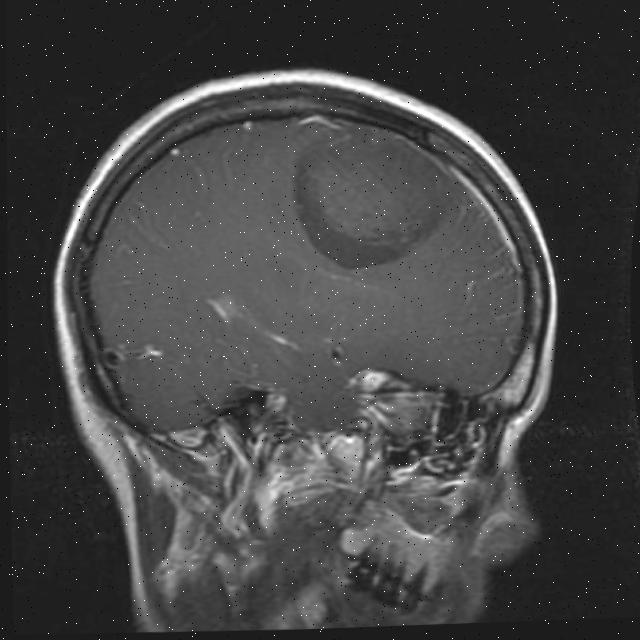Glioma: (289, 117, 459, 273)
